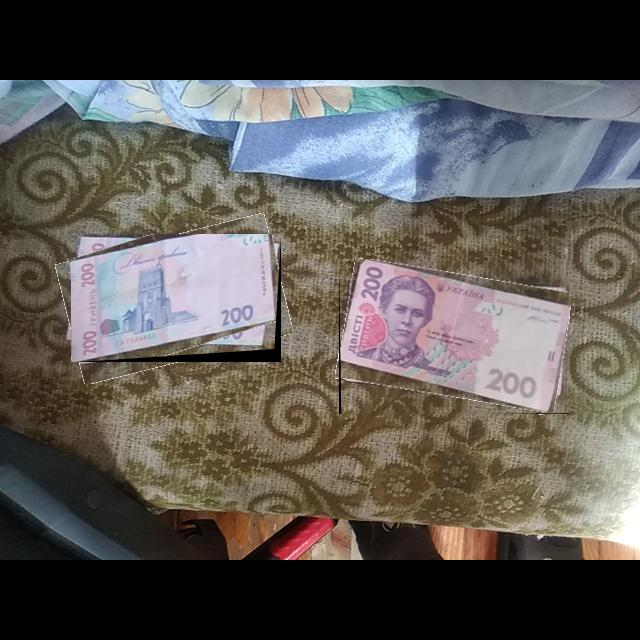200uah: (340, 259, 571, 415), (71, 234, 278, 363)
